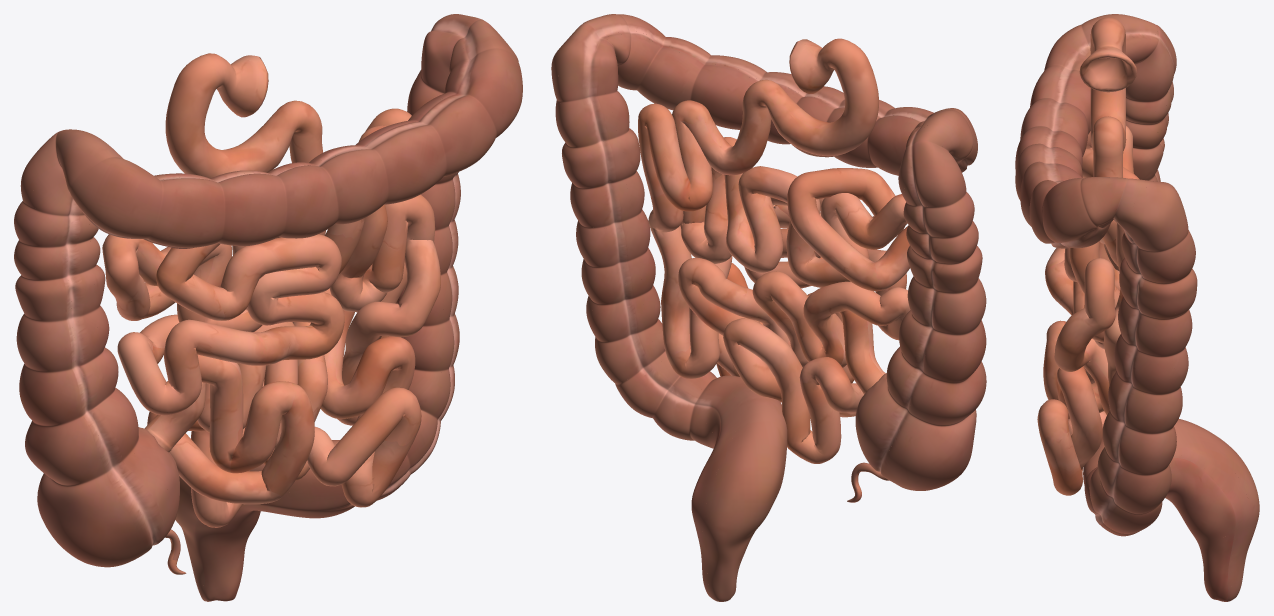
The model's file is small_and_large_intestine.glb.
3 views of the same model, side by side, from view 1: azimuth 30°, elevation 25°; view 2: azimuth 150°, elevation 25°; view 3: azimuth 270°, elevation 25° (orthographic). The views are drawn at different scales.
Visible parts, largest first — view 1: Tjocktarm, Tunntarm; view 2: Tjocktarm, Tunntarm; view 3: Tjocktarm, Tunntarm.
Part boxes in pixels (left/top/right/bottom): Tjocktarm: left=14, top=14, right=522, bottom=601; Tunntarm: left=102, top=53, right=440, bottom=527; Tjocktarm: left=551, top=14, right=986, bottom=601; Tunntarm: left=638, top=38, right=910, bottom=463; Tjocktarm: left=1015, top=14, right=1259, bottom=601; Tunntarm: left=1037, top=17, right=1139, bottom=495.
Size of the model in its own units: 1.51 by 1.84 by 0.7468.
Materials: 2 (2 with a texture image).
